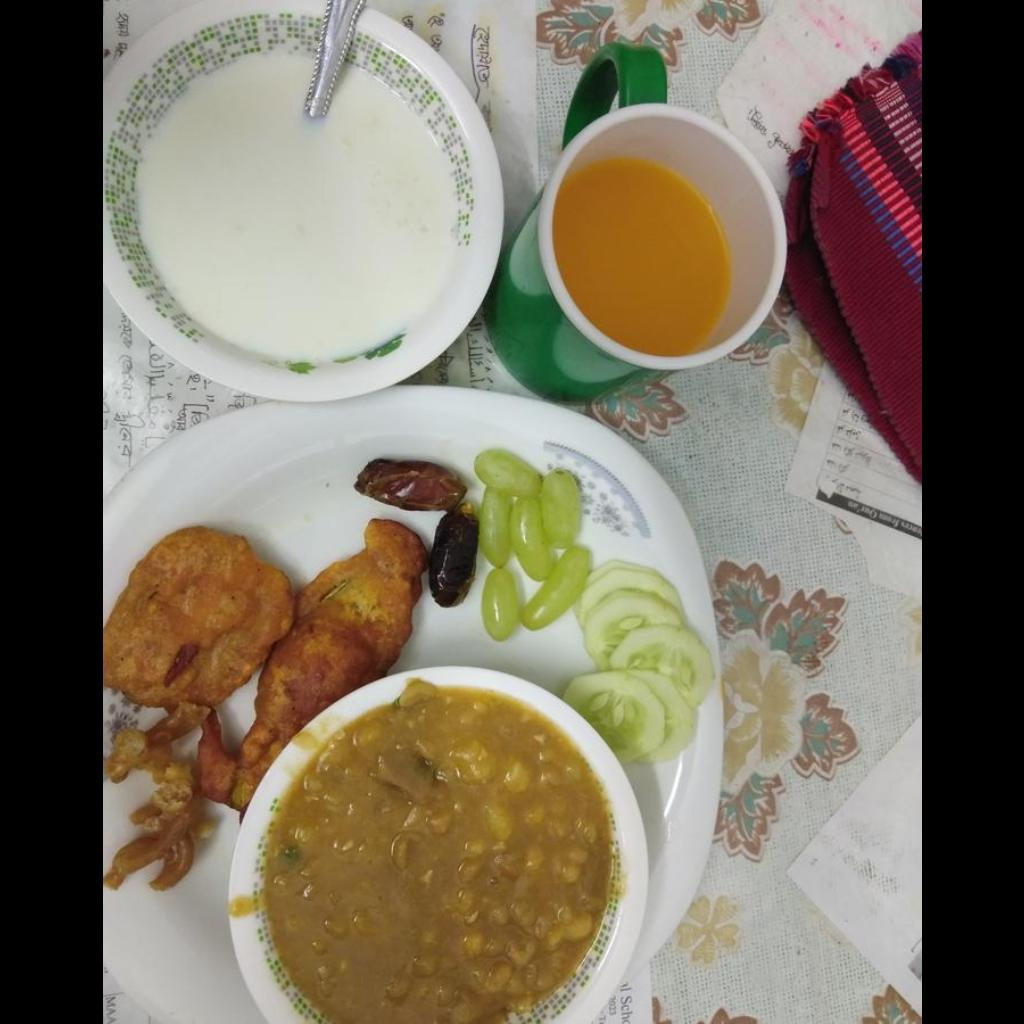beguni: (103, 524, 415, 815)
cucumber: (563, 560, 713, 763)
daal: (256, 695, 610, 1017)
dates: (353, 459, 477, 606)
grapes: (474, 449, 589, 639)
jilapi: (102, 719, 204, 890)
juice: (554, 157, 730, 355)
payesh: (135, 50, 456, 364)
